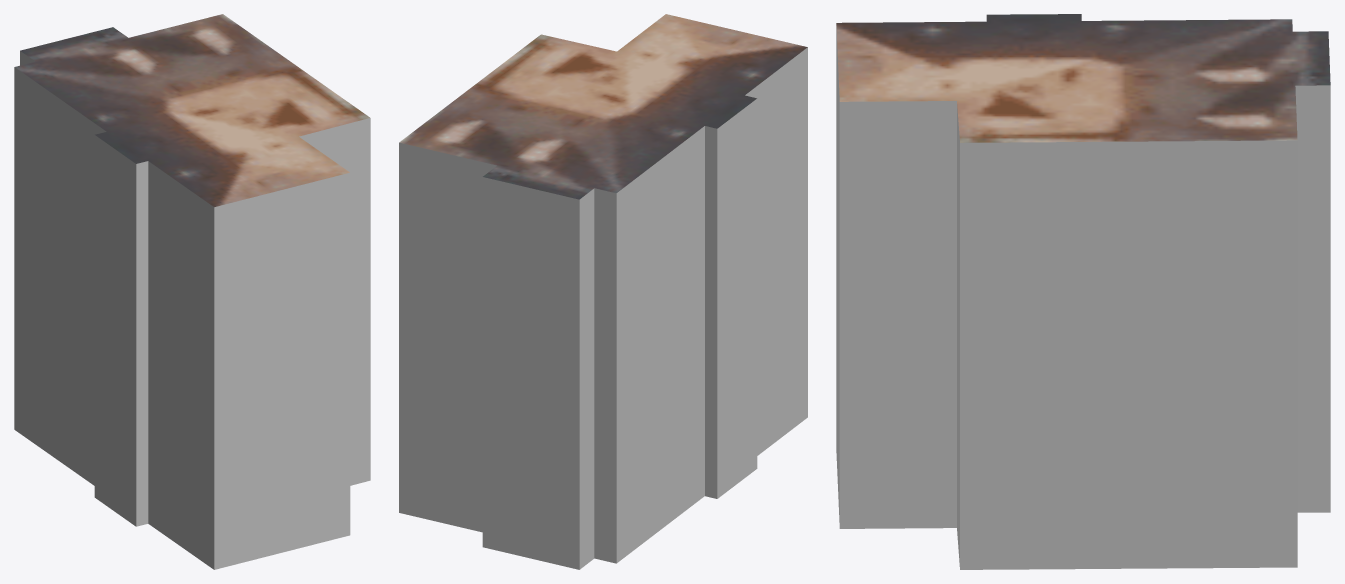
The model's file is DEBW_0010007TxgI.gltf.
3 renders of one model, left to right at view 1: azimuth 30°, elevation 25°; view 2: azimuth 150°, elevation 25°; view 3: azimuth 270°, elevation 25°, orthographic. The views are drawn at different scales.
Parts seen in each view (by area): view 1: Z_UP; view 2: Z_UP; view 3: Z_UP.
Boxes of the visible parts, left/top/right/bottom form: Z_UP: left=14, top=14, right=370, bottom=569; Z_UP: left=399, top=14, right=807, bottom=569; Z_UP: left=836, top=14, right=1330, bottom=569.
Size of the model in its own units: 11.61 by 17.94 by 18.82.
2 materials, 1 textured.
